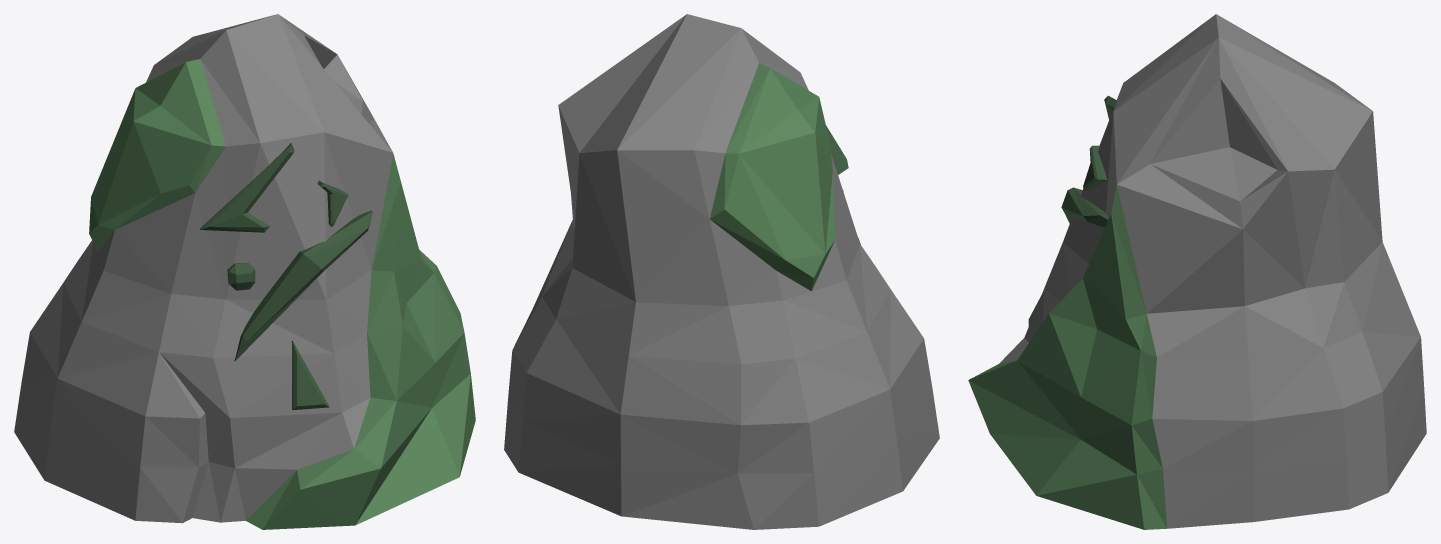
File: _stone_1.fbx
The picture shows the model from 3 angles, left to right: view 1: azimuth 30°, elevation 25°; view 2: azimuth 150°, elevation 25°; view 3: azimuth 270°, elevation 25°; orthographic projection.
Visible parts, largest first — view 1: stone_1; view 2: stone_1; view 3: stone_1.
Part boxes in pixels (x1,y1,x2,y2): stone_1: (14, 14, 475, 529); stone_1: (504, 14, 939, 529); stone_1: (968, 14, 1426, 529).
Bounding box in the file's own units: 114 × 118 × 119.
